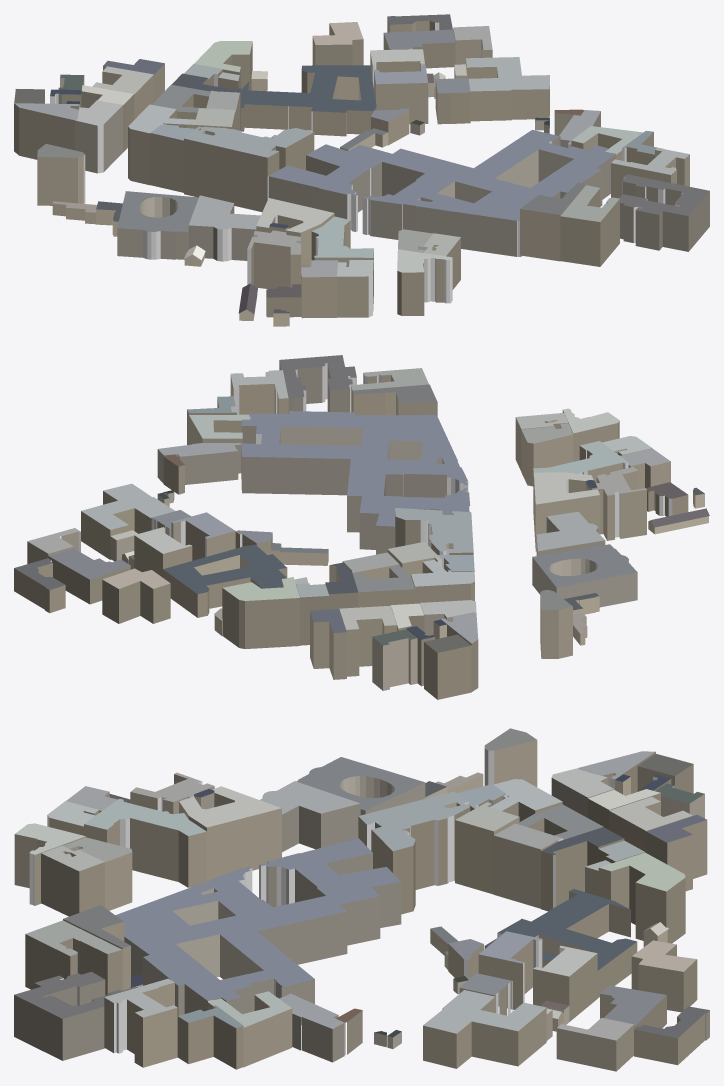
The picture shows the model from 3 angles, top to bottom: view 1: azimuth 30°, elevation 25°; view 2: azimuth 150°, elevation 25°; view 3: azimuth 270°, elevation 25°; orthographic projection. The views are drawn at different scales.
Visible parts, largest first — view 1: tuile; view 2: tuile; view 3: tuile.
Boxes of the visible parts, x1=… form: tuile: x1=14, y1=14, x2=709, y2=326; tuile: x1=14, y1=355, x2=709, y2=699; tuile: x1=14, y1=728, x2=709, y2=1071.
Size of the model in its own units: 266 by 29.02 by 273.
